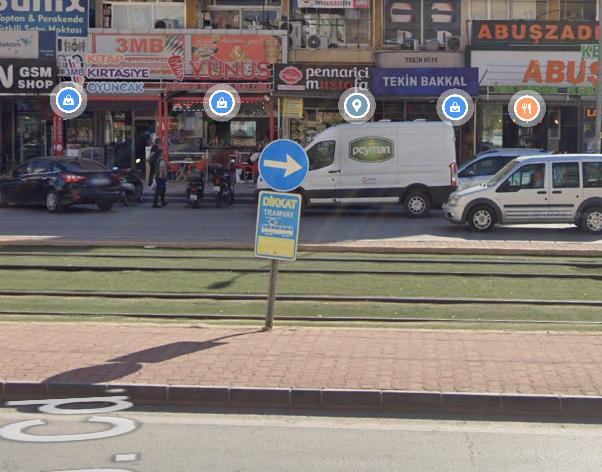turnright: (259, 139, 311, 191)
